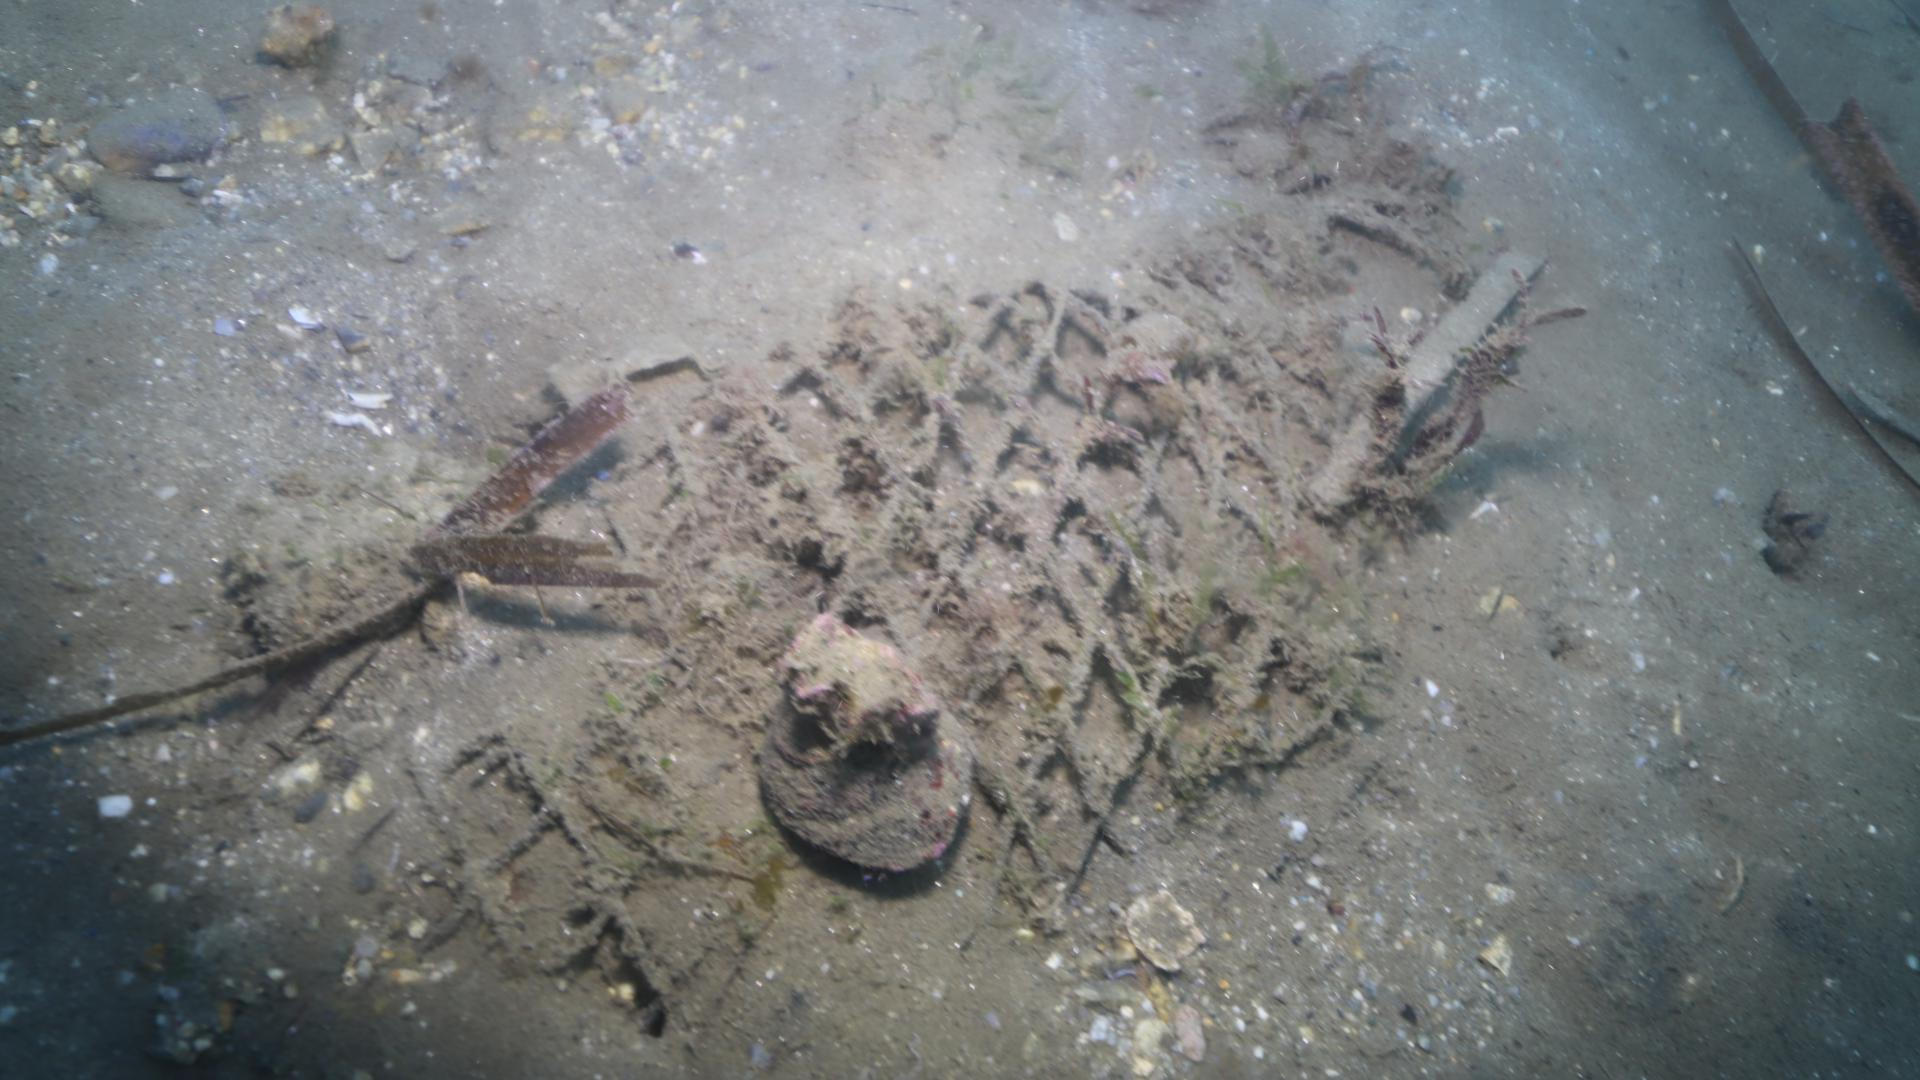fish net: (407, 280, 1346, 1047)
